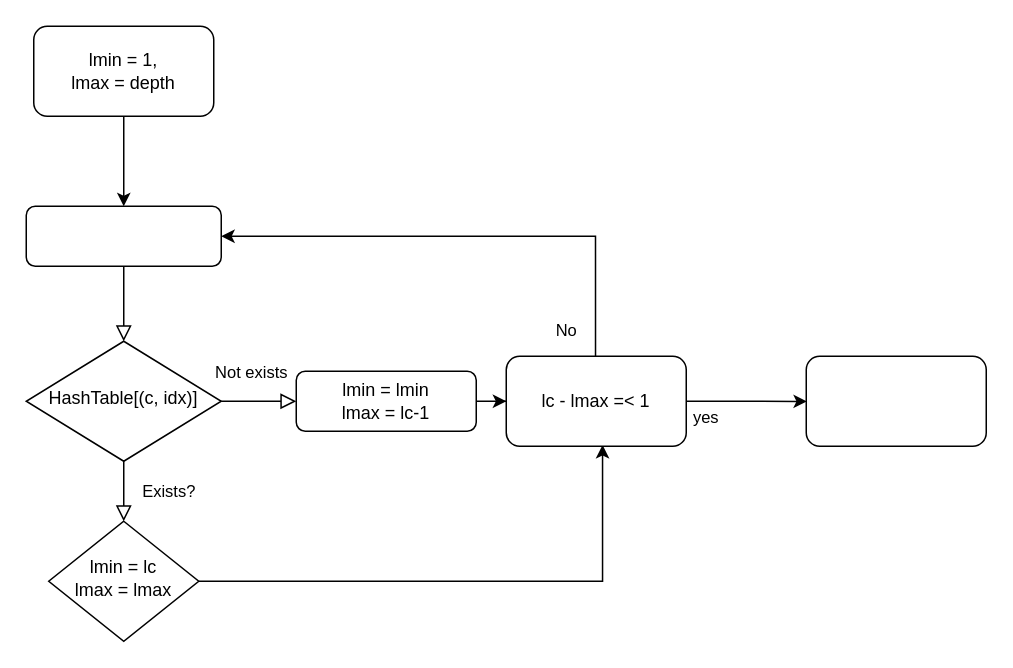
Some shapes in this 1013 by 668 pixel diagram are drawn without their labels. The centre of each missing label's shape, as x and y in pixels:
lc = (lmin +lmax )/2: the point at 123,235
return HashTable[lc]: the point at 895,400
